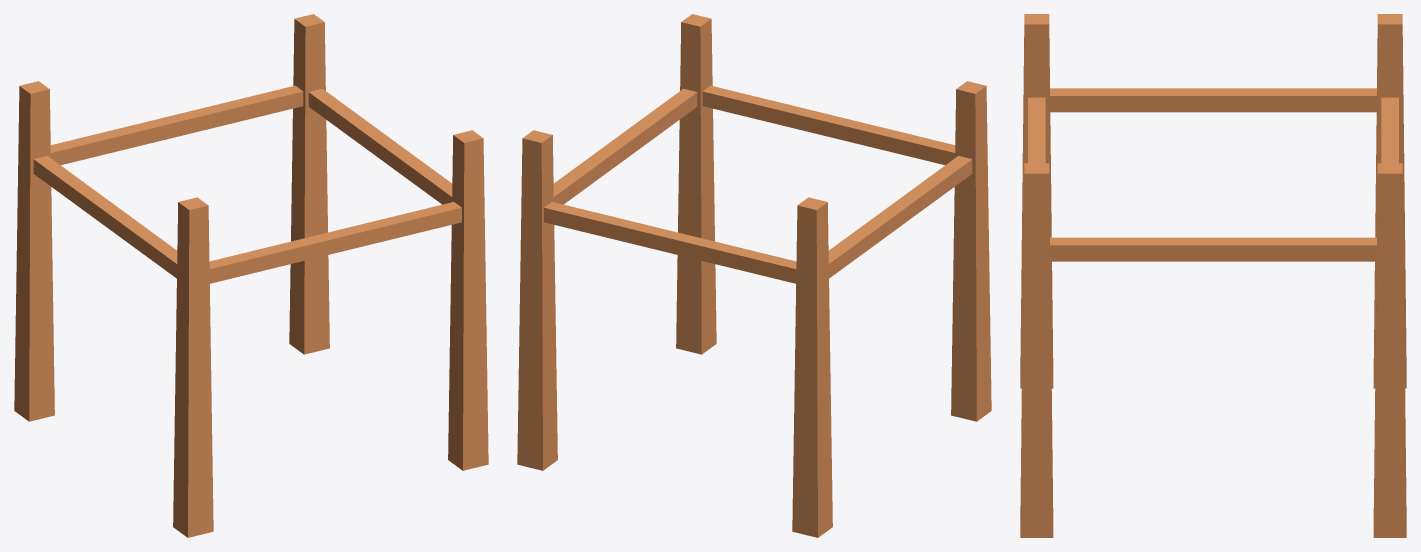
Rendered from structure.dae.
3 renders of one model, left to right at view 1: azimuth 30°, elevation 25°; view 2: azimuth 150°, elevation 25°; view 3: azimuth 270°, elevation 25°, orthographic. The views are drawn at different scales.
Parts seen in each view (by area): view 1: structure; view 2: structure; view 3: structure.
Boxes of the visible parts, x1,y1,x2,y2 form: structure: (14,14,488,537); structure: (517,14,991,537); structure: (1020,14,1406,537).
Size of the model in its own units: 2 by 2.07 by 2.
